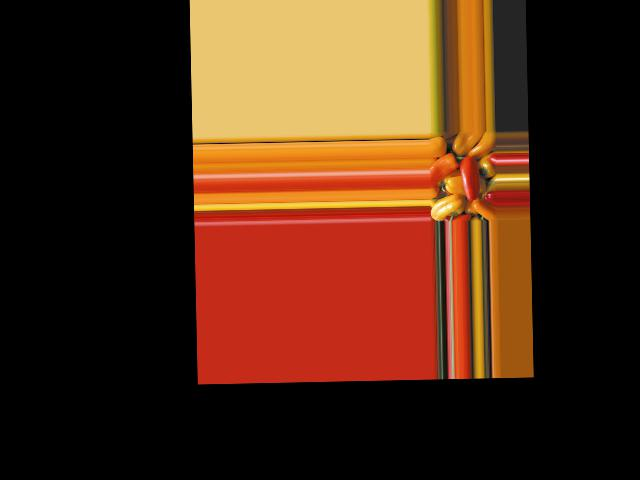bell_pepper: (431, 192, 462, 221)
